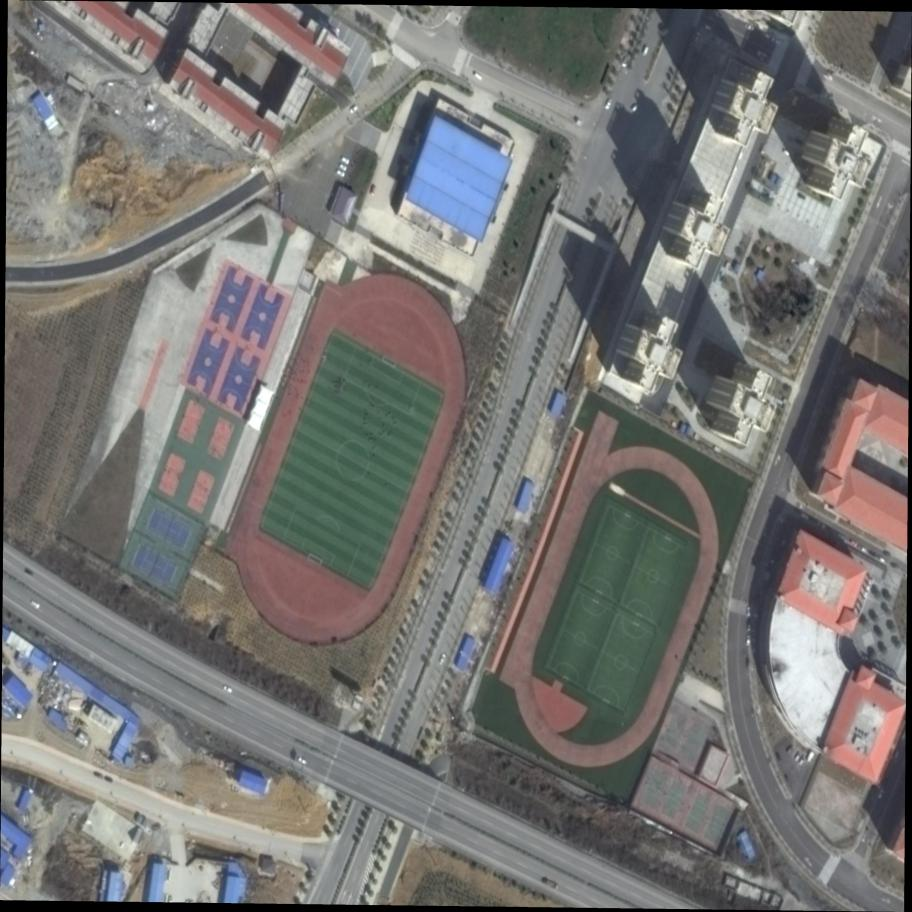small-vehicle: (782, 742, 796, 757), (792, 748, 804, 764), (28, 598, 42, 611), (221, 683, 235, 696), (296, 755, 310, 768), (846, 537, 860, 550), (640, 43, 652, 58), (338, 154, 352, 166), (603, 96, 614, 111), (472, 70, 485, 82), (438, 652, 448, 667), (334, 168, 347, 179), (348, 104, 361, 115), (92, 769, 105, 780), (744, 21, 757, 32), (337, 162, 349, 173), (857, 543, 869, 554), (103, 774, 116, 784), (797, 754, 807, 766), (806, 751, 815, 762), (746, 620, 753, 634), (746, 635, 752, 648), (746, 605, 752, 617), (882, 550, 892, 557), (868, 550, 878, 557), (890, 562, 899, 569), (878, 556, 886, 563)
